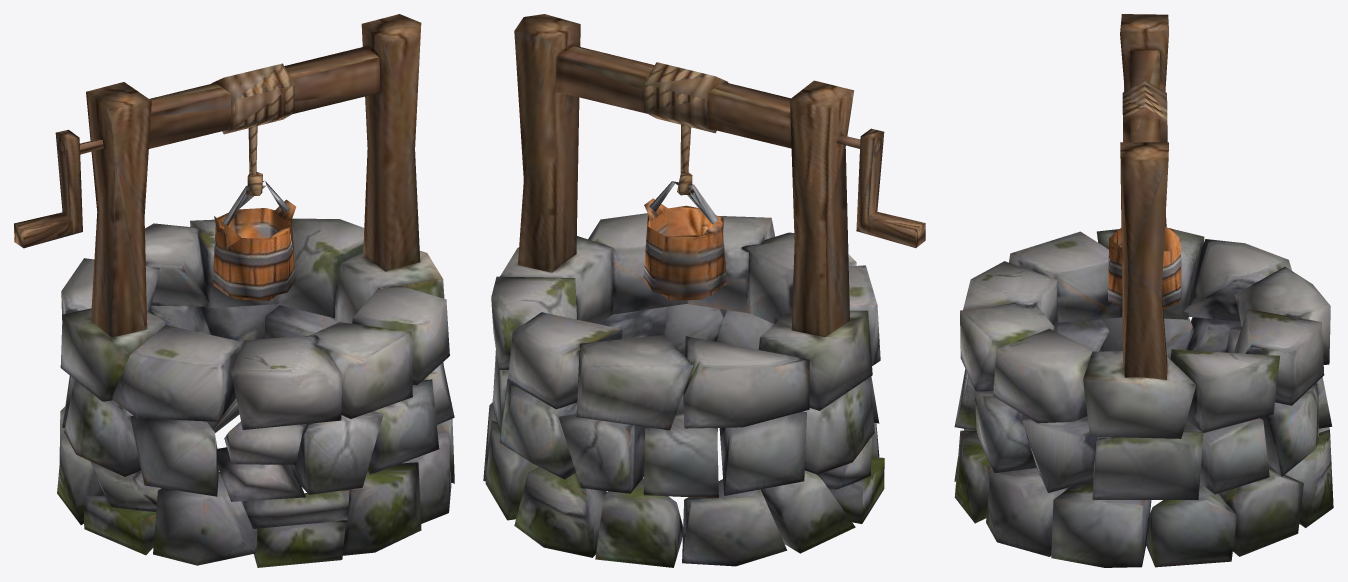
The model's file is mu-puits-semis.glb.
3 views of the same model, side by side, from view 1: azimuth 30°, elevation 25°; view 2: azimuth 150°, elevation 25°; view 3: azimuth 270°, elevation 25° (orthographic). The views are drawn at different scales.
Parts seen in each view (by area): view 1: mu-puits-semis; view 2: mu-puits-semis; view 3: mu-puits-semis.
Boxes of the visible parts, box(x1,y1,x2,y2) form: mu-puits-semis: box(14, 14, 454, 567); mu-puits-semis: box(483, 14, 925, 567); mu-puits-semis: box(954, 14, 1333, 567).
Size of the model in its own units: 2 by 2 by 1.7.
Materials: 1 (1 with a texture image).
